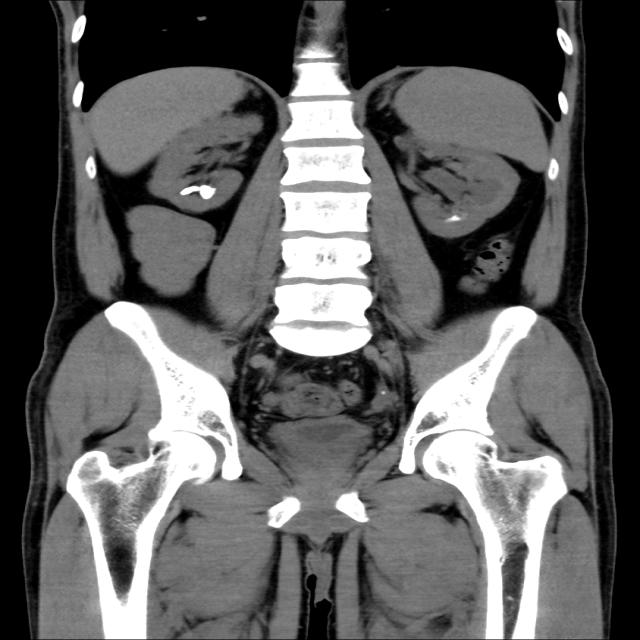kidneystone: (180, 185, 216, 199), (443, 215, 462, 222)
